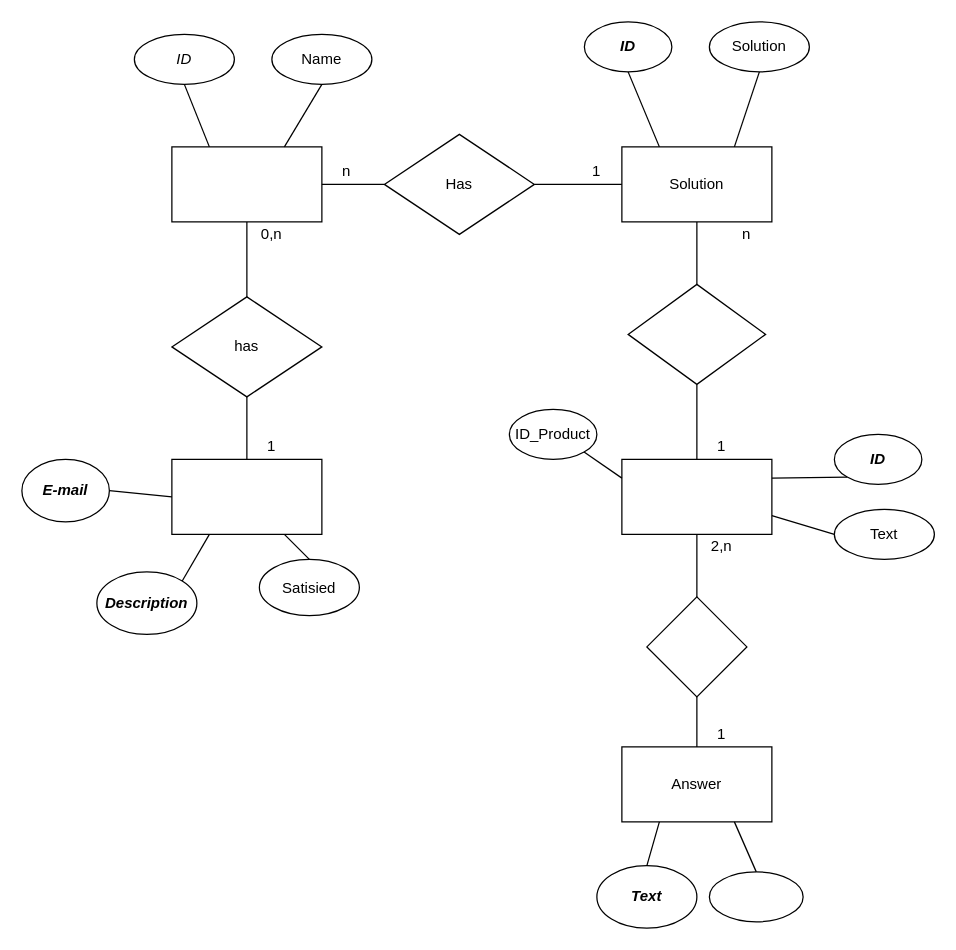
Image size: 956x950. Some labels were removed from this diagram. The shapes that lost their labels are listed below. From the top down, each one's box as (x1, y1, x2, y2) in pixels, then its label:
(171, 146, 322, 222): Product
(627, 283, 766, 384): represented by
(171, 458, 322, 534): Feedback
(621, 458, 772, 534): Question
(646, 596, 747, 697): Contains
(708, 871, 803, 922): num
